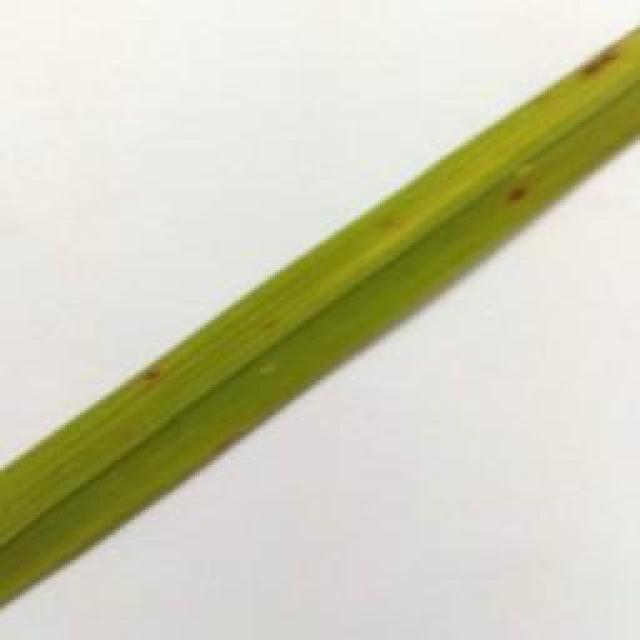Brown_Spot: (565, 39, 622, 89), (494, 170, 536, 216), (369, 210, 404, 239), (139, 360, 169, 387)
